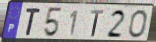1: (69, 9, 78, 36)
2: (105, 9, 127, 39)
5: (42, 7, 64, 39)
O: (127, 9, 148, 40)
T: (25, 7, 42, 37), (90, 9, 105, 38)
